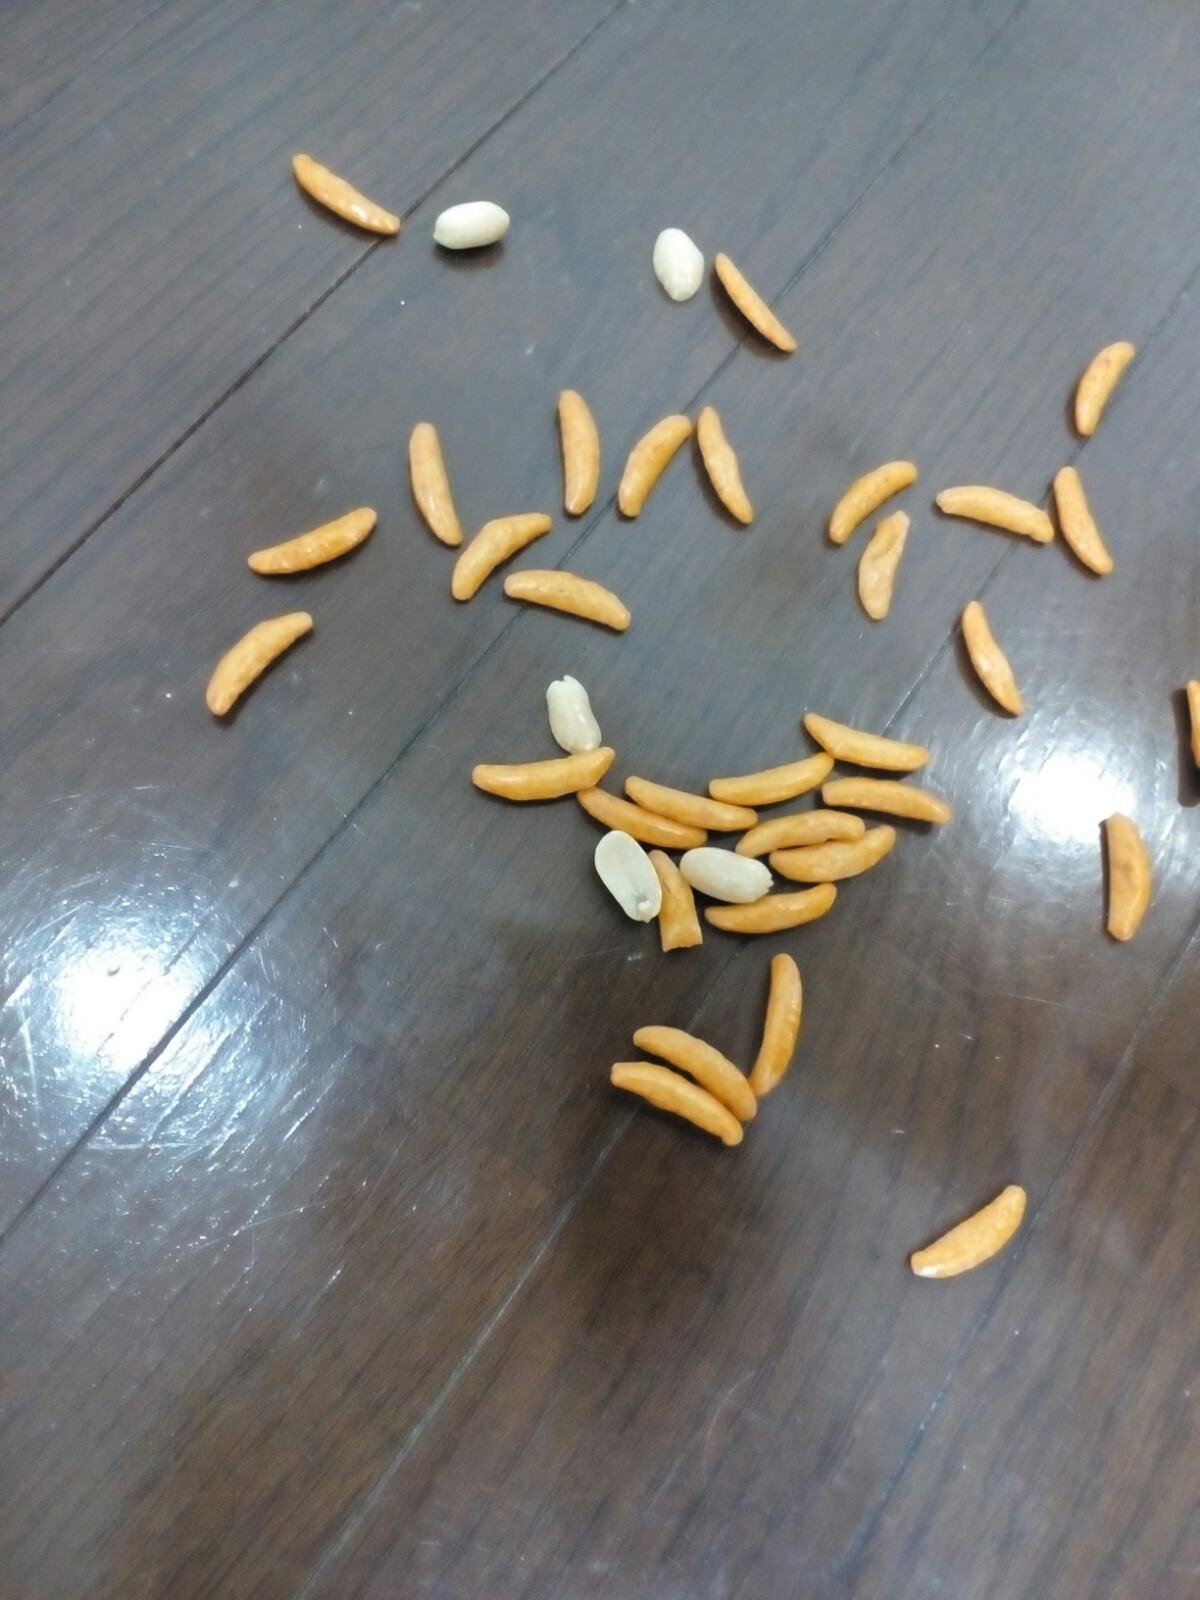peanut: (420, 174, 528, 272), (592, 823, 673, 934), (673, 829, 784, 908), (637, 214, 711, 325), (541, 665, 609, 774)
